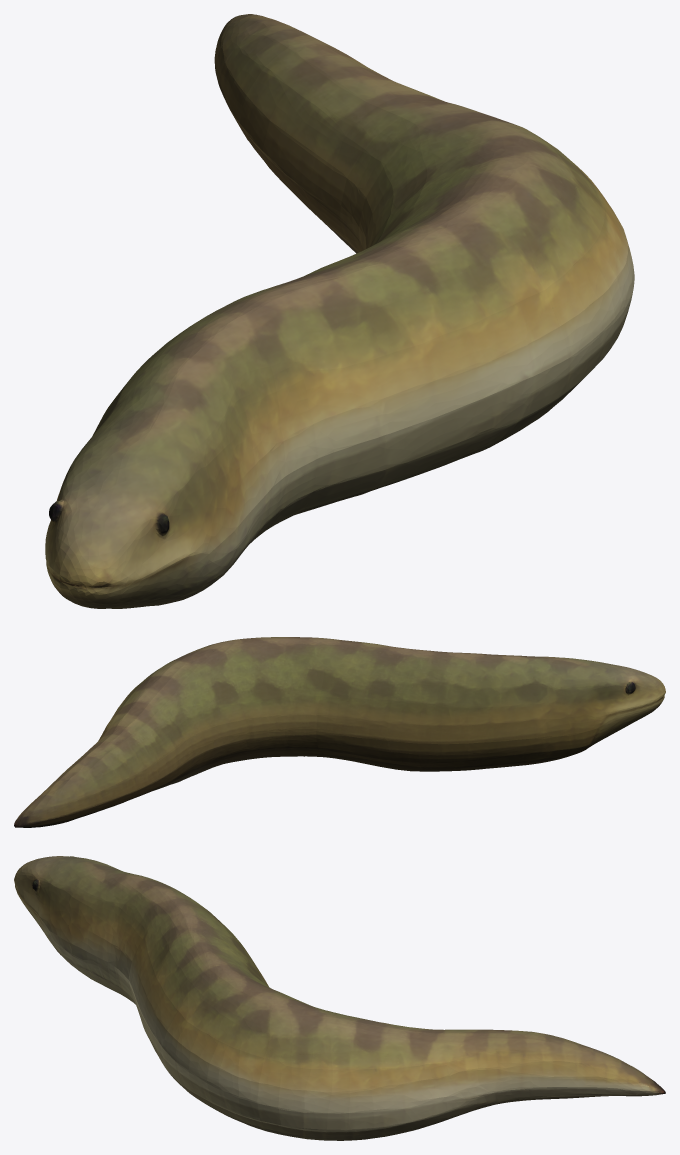
3 views of the same model, one above another, from view 1: azimuth 30°, elevation 25°; view 2: azimuth 150°, elevation 25°; view 3: azimuth 270°, elevation 25° (orthographic). The views are drawn at different scales.
Visible parts, largest first — view 1: geometry_0; view 2: geometry_0; view 3: geometry_0.
Part boxes in pixels (x1,y1,x2,y2): geometry_0: (45,14,634,608); geometry_0: (14,637,665,827); geometry_0: (14,856,665,1140).
Bounding box in the file's own units: 0.561 × 0.1476 × 0.7.
Materials: 1 (1 with a texture image).
